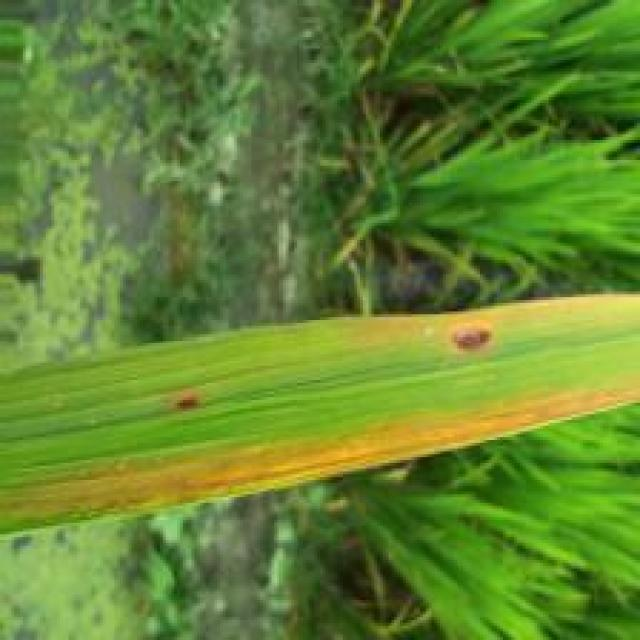Brown_Spot: (446, 323, 495, 356), (169, 386, 202, 413)
